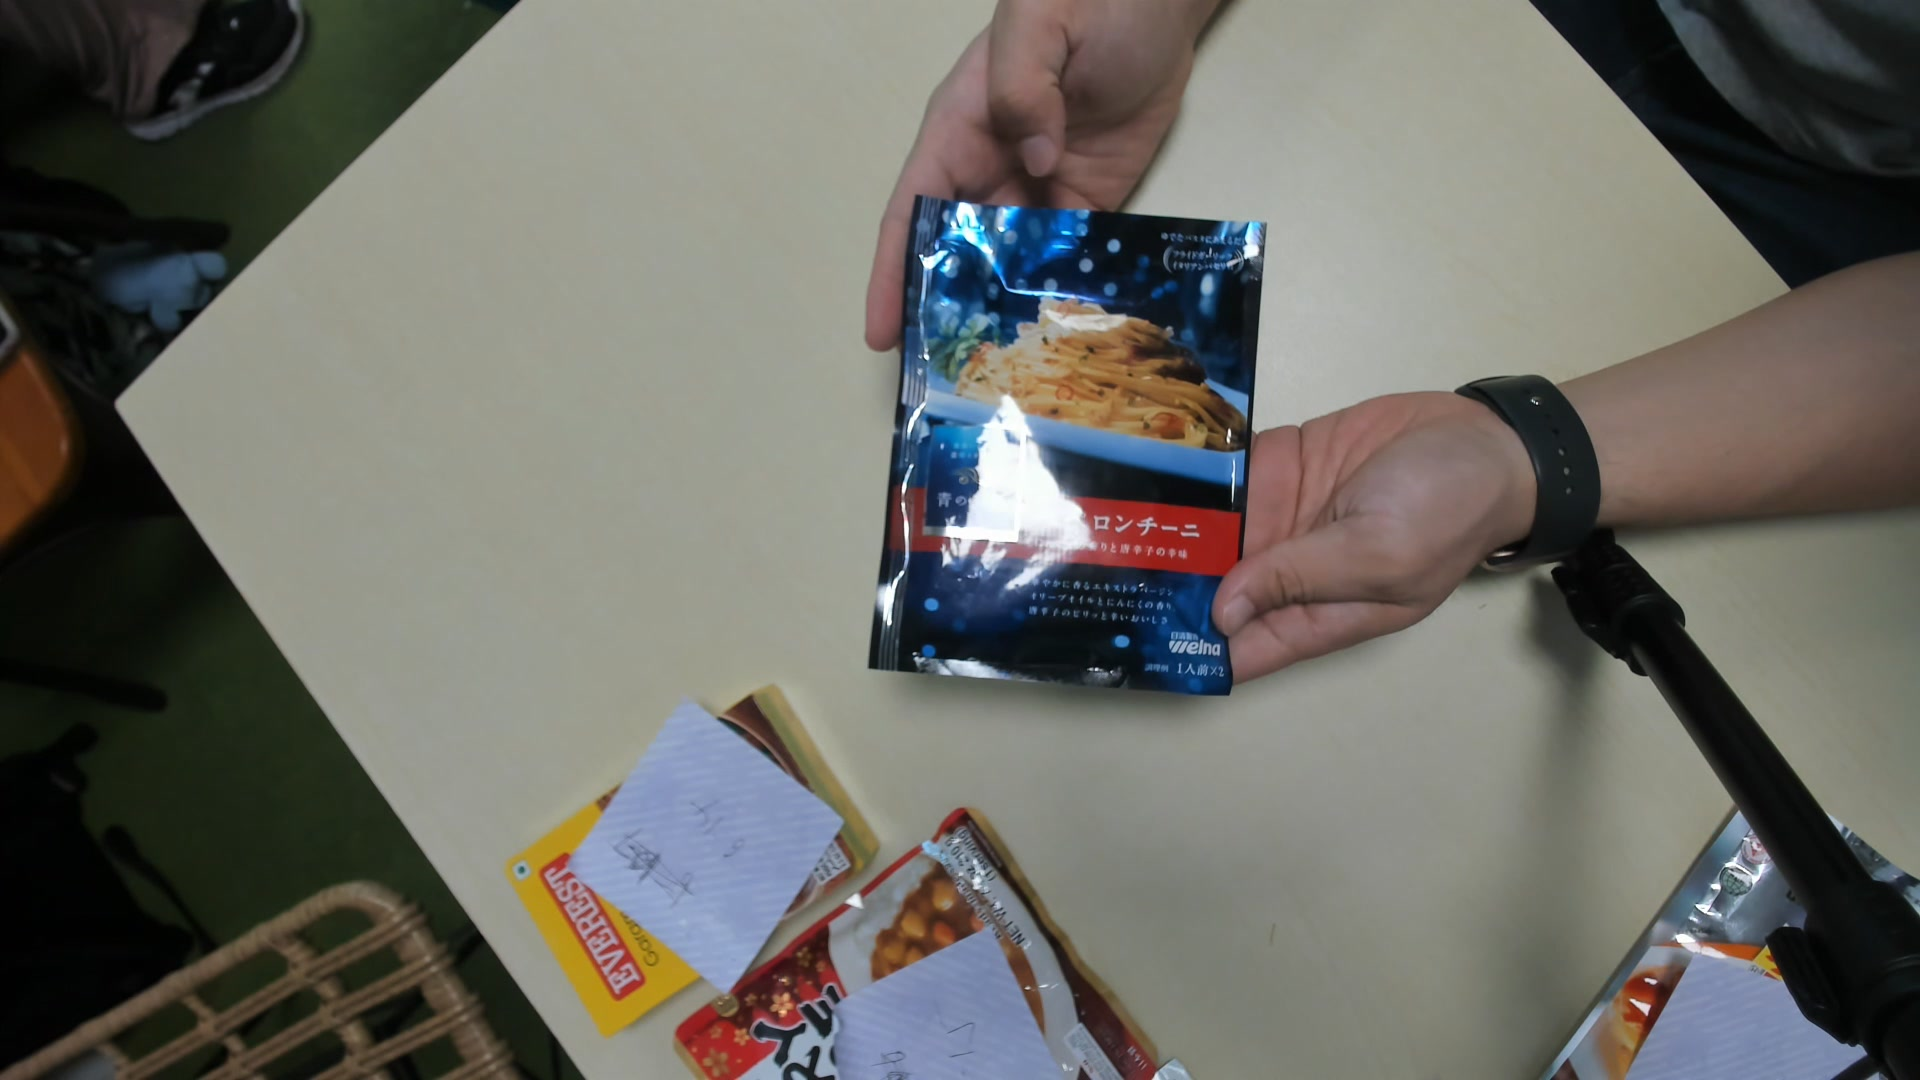CurryPastePowderSauce_0-99g_NonHalal_NonHealthy: (873, 200, 1259, 694)
